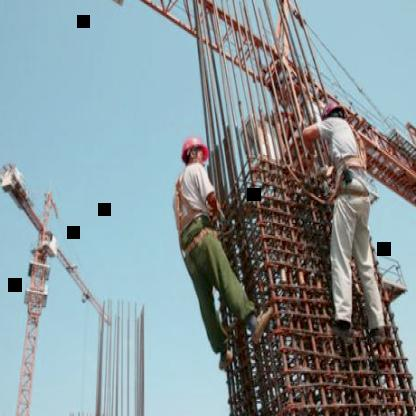helmet: (182, 135, 210, 171), (319, 98, 349, 130)
